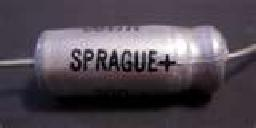Electrolytic-Capacitor: (26, 22, 234, 108)
